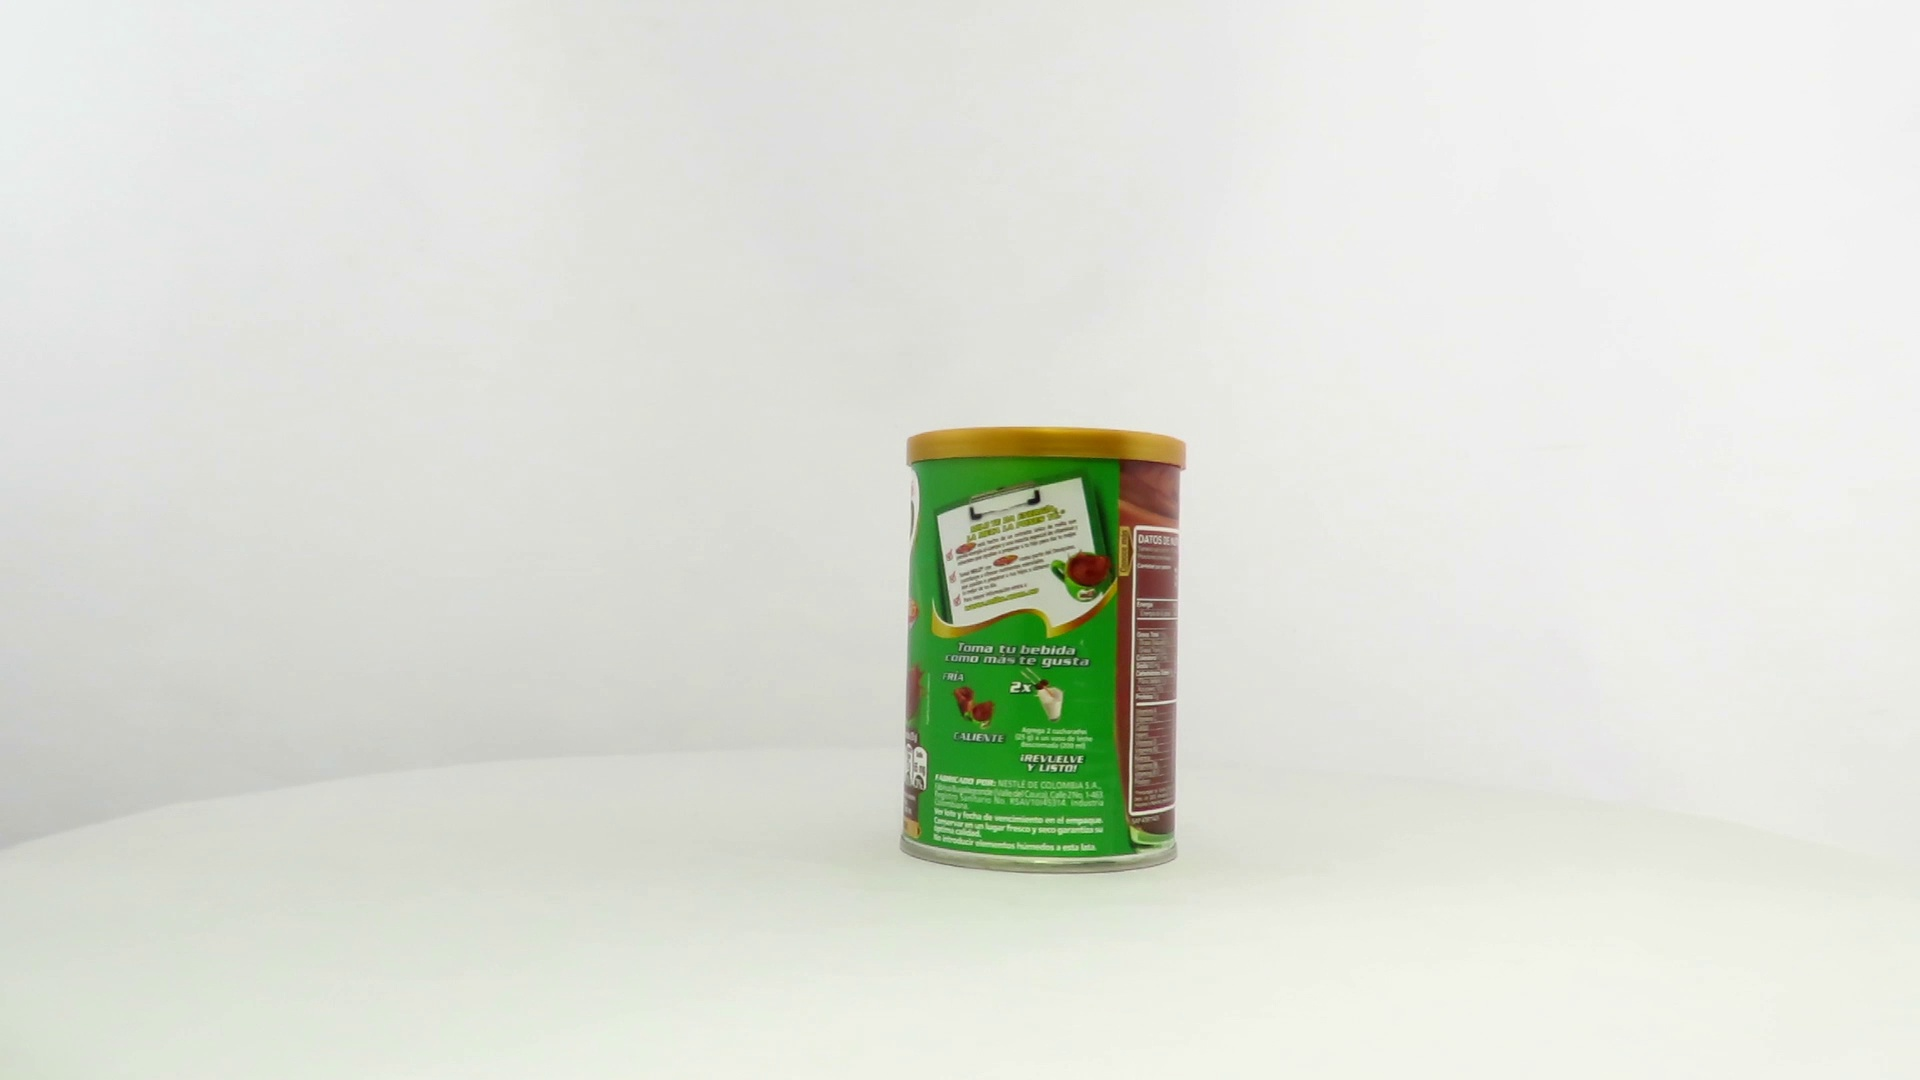COL0170203LAT20000: (894, 421, 1192, 881)
